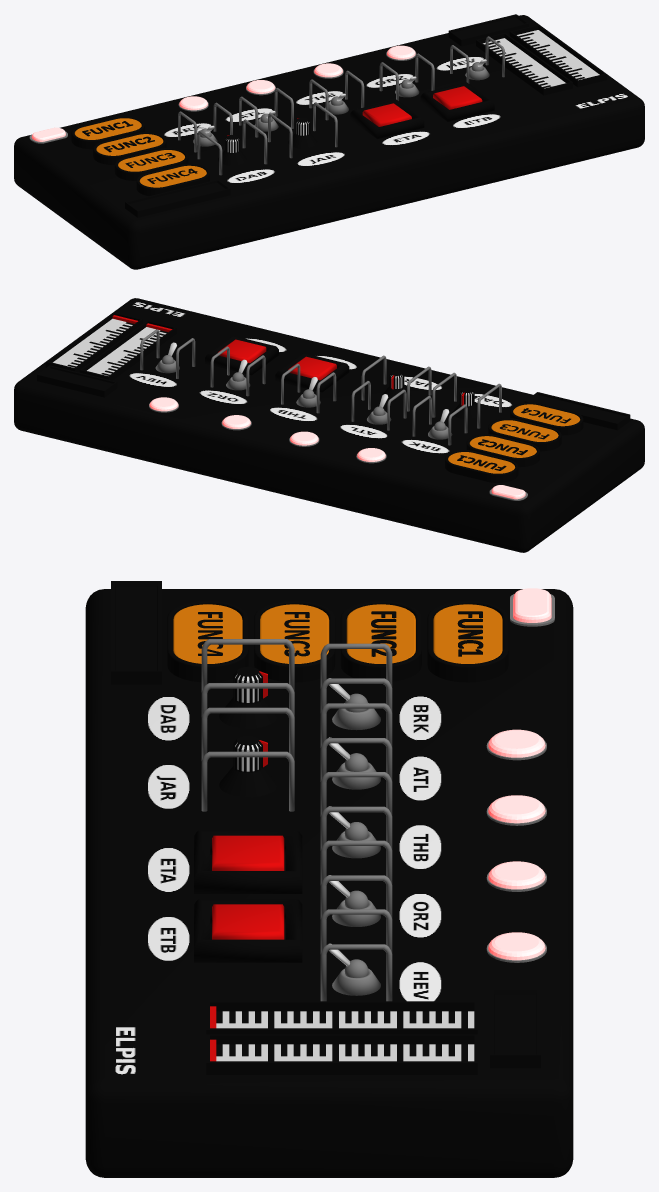
The model's file is boitier_command.glb.
The picture shows the model from 3 angles, top to bottom: view 1: azimuth 30°, elevation 25°; view 2: azimuth 150°, elevation 25°; view 3: azimuth 270°, elevation 25°; orthographic projection. The views are drawn at different scales.
Parts seen in each view (by area): view 1: BOITIER, jauge_JAR, jauge_DAB, ecran, ecran_horloge, base_ETA, base_ETB, bouton_FUNC2, bouton_FUNC4, bouton_FUNC1, bouton_FUNC3, base_FUNC1.003 (+19 smaller); view 2: BOITIER, jauge_JAR, jauge_DAB, ecran, ecran_horloge, base_ETA, base_ETB, base_FUNC1, bouton_FUNC2, bouton_FUNC4, bouton_FUNC1, bouton_FUNC3 (+19 smaller); view 3: BOITIER, jauge_JAR, jauge_DAB, ecran, base_ETB, base_ETA, ecran_horloge, bouton_FUNC1, bouton_FUNC2, bouton_FUNC4, bouton_FUNC3, base_HEV (+19 smaller).
Part boxes in pixels (x1,y1,x2,y2): BOITIER: (14,15,644,269); jauge_JAR: (509,24,606,87); jauge_DAB: (476,33,572,95); ecran: (125,179,230,217); ecran_horloge: (448,14,528,46); base_ETA: (350,99,424,138); base_ETB: (420,82,494,121); bouton_FUNC2: (96,134,163,155); bouton_FUNC4: (139,165,206,187); bouton_FUNC1: (74,118,141,139); bouton_FUNC3: (118,150,184,171); base_FUNC1.003: (136,163,209,195); BOITIER: (14,298,644,552); jauge_JAR: (45,312,142,372); jauge_DAB: (79,320,176,380); ecran: (524,392,630,430); ecran_horloge: (37,365,117,397); base_ETA: (275,353,349,392); base_ETB: (205,336,278,375); base_FUNC1: (445,450,518,482); bouton_FUNC2: (469,436,536,457); bouton_FUNC4: (513,404,580,426); bouton_FUNC1: (448,452,515,473); bouton_FUNC3: (491,420,558,441); BOITIER: (85,589,573,1177); jauge_JAR: (206,1034,477,1074); jauge_DAB: (206,1001,477,1034); ecran: (111,581,161,684); base_ETB: (194,899,302,962); base_ETA: (194,830,302,893); ecran_horloge: (490,989,540,1068); bouton_FUNC1: (433,604,502,663); bouton_FUNC2: (346,604,415,663); bouton_FUNC4: (173,604,242,663); bouton_FUNC3: (260,604,329,663); base_HEV: (320,909,392,1001).
Size of the model in its own units: 1.1 by 0.1595 by 0.45.
Materials: 9 (1 with a texture image).
